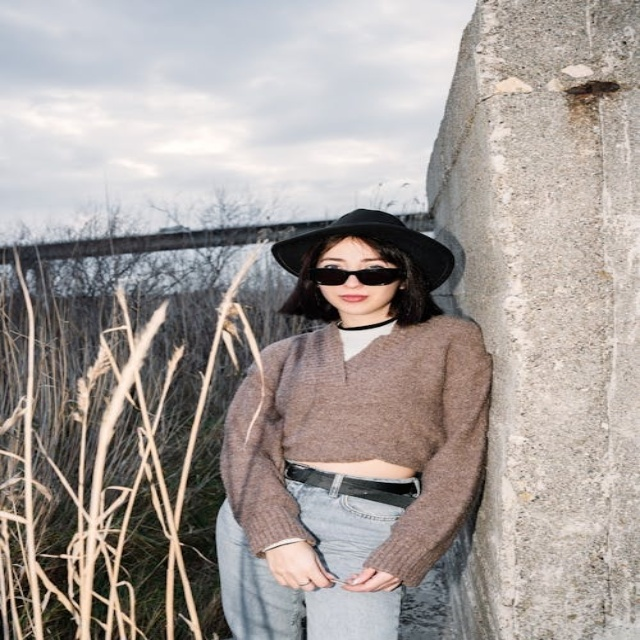Sin_gafas: (317, 252, 385, 269)
Sin_guantes: (248, 528, 335, 593), (342, 560, 402, 596)
Sin_mascara: (328, 290, 379, 312)
